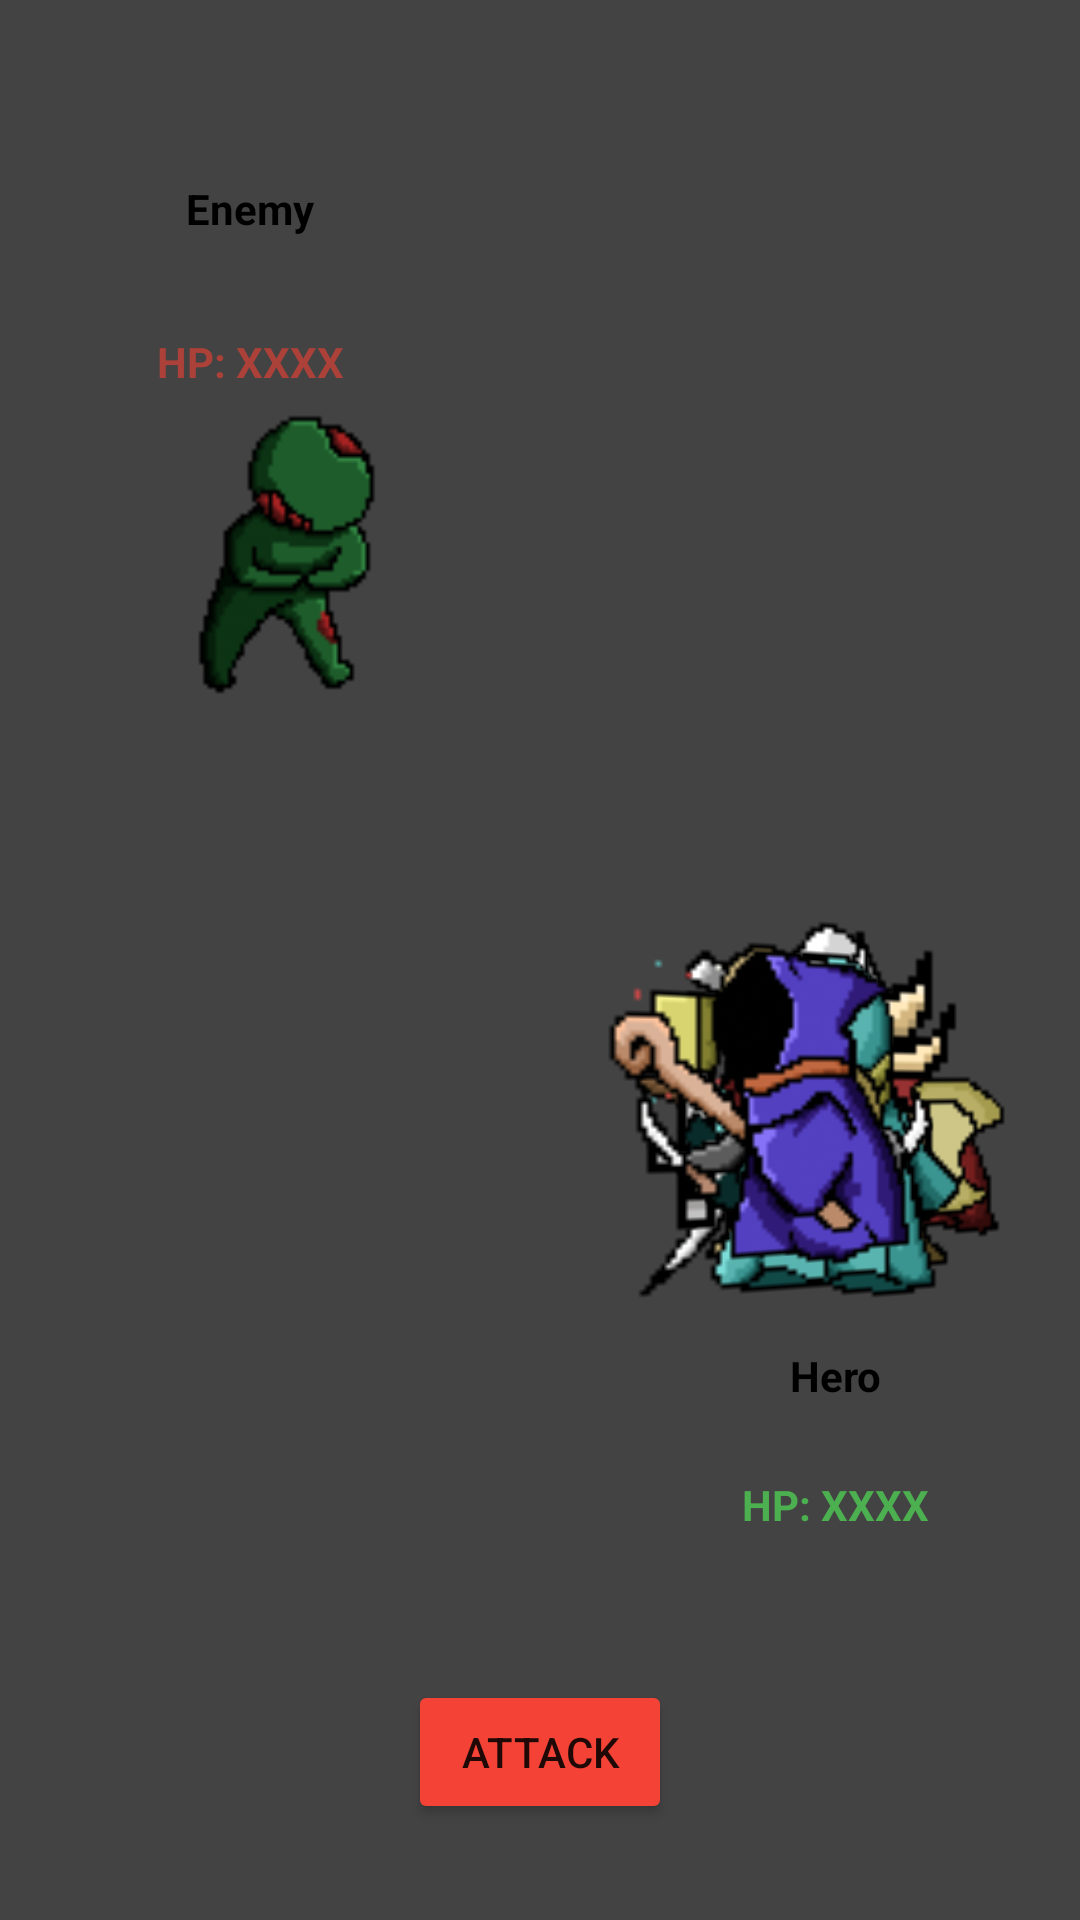

Icon click points for this 1080w x 1920h phone screenshot, format (x,y):
zom: (266,520)
